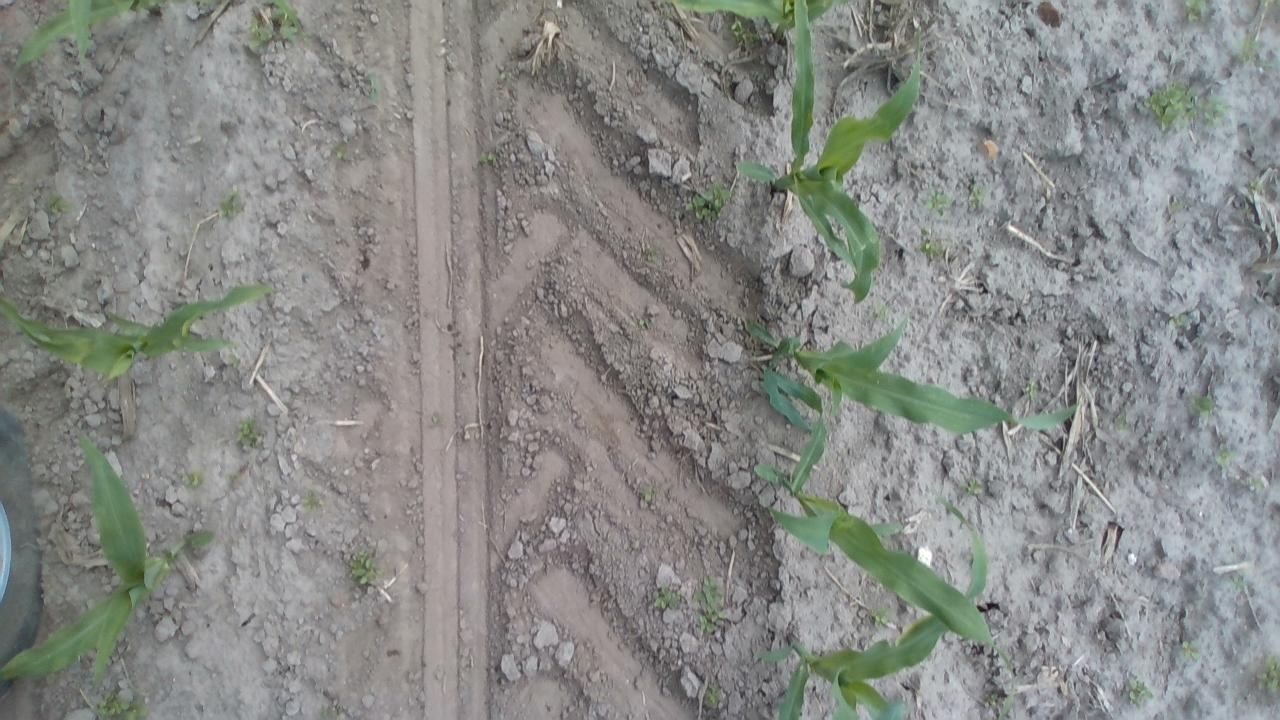Maize: (756, 360, 1020, 720), (0, 424, 221, 696), (734, 4, 930, 301), (752, 492, 989, 710), (736, 305, 1086, 452), (0, 272, 277, 385), (7, 0, 165, 78), (674, 0, 864, 50)
Weeds: (690, 574, 734, 644), (1142, 80, 1196, 131), (240, 6, 300, 45), (686, 180, 734, 228), (89, 686, 150, 718), (346, 546, 386, 588), (1233, 34, 1274, 72), (216, 184, 248, 222), (1249, 652, 1277, 694), (1122, 672, 1154, 706), (1188, 390, 1219, 422), (235, 418, 263, 452), (652, 584, 684, 613), (917, 229, 949, 258), (1202, 98, 1230, 128), (728, 17, 758, 44), (44, 192, 74, 218), (1175, 636, 1202, 664), (866, 605, 896, 630), (296, 488, 324, 514), (987, 693, 1016, 718), (1180, 1, 1212, 23), (700, 681, 724, 710), (1210, 445, 1236, 470), (924, 188, 951, 212), (968, 179, 989, 209), (1230, 571, 1253, 598), (958, 479, 986, 500), (1019, 377, 1042, 402), (870, 296, 892, 322), (315, 703, 349, 719), (632, 308, 655, 331), (328, 141, 352, 163), (368, 74, 386, 103), (1112, 412, 1134, 434), (1169, 309, 1190, 332), (1248, 470, 1268, 494), (1246, 174, 1266, 196), (183, 469, 206, 488), (642, 246, 662, 267), (640, 484, 660, 505), (477, 148, 499, 166), (1166, 197, 1186, 216), (224, 468, 243, 488), (226, 350, 242, 370), (430, 410, 444, 426), (1257, 0, 1274, 9)
